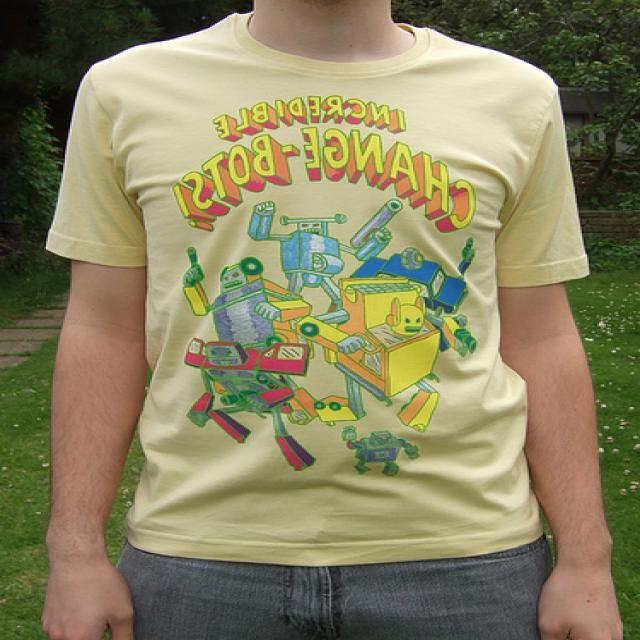short sleeve shirt: (44, 9, 593, 569)
trousers: (110, 531, 562, 640)
